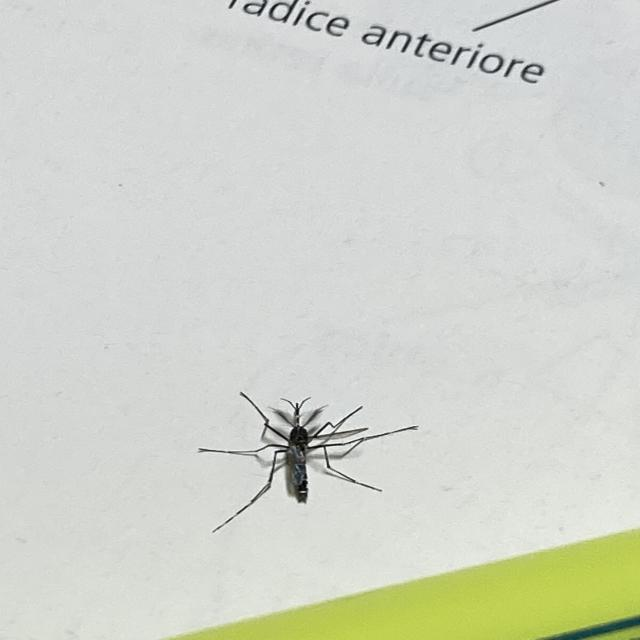albopictus: (193, 380, 410, 532)
